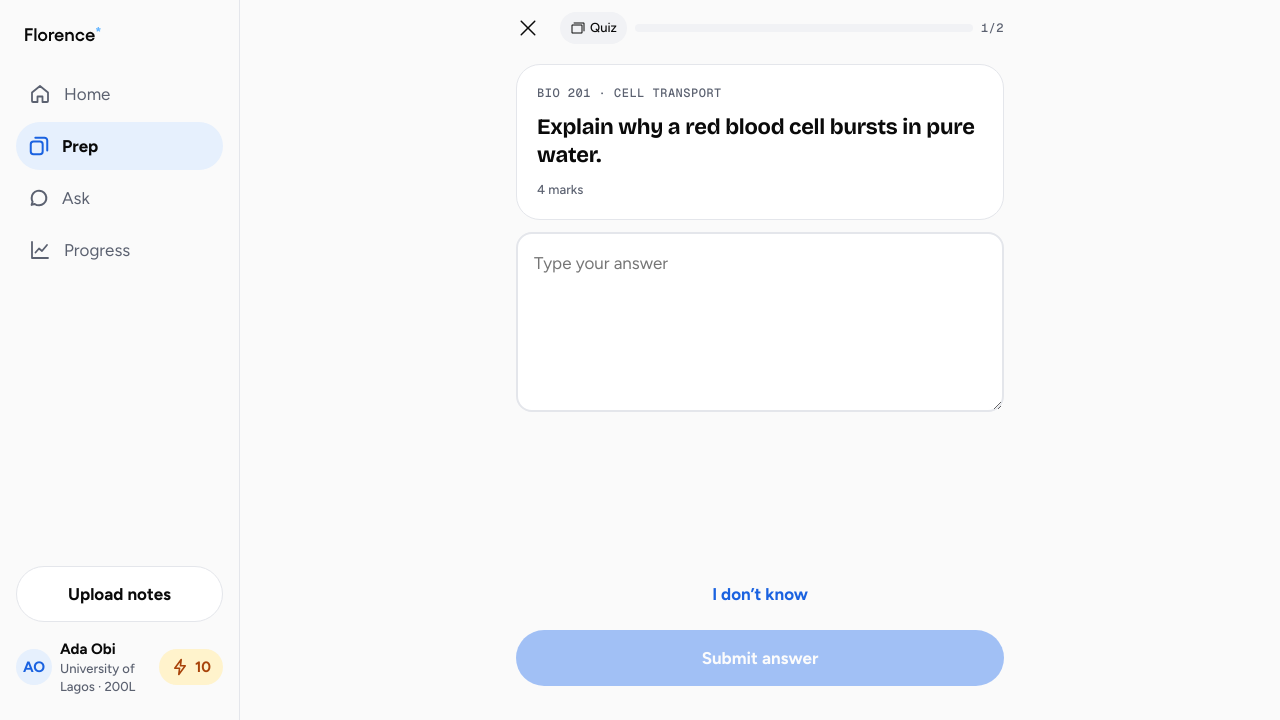
Test: Prep › takes a typed answer for written questions and sends I don’t know
expect the text "BIO 201 · Cell transport" is shown: met, box [537, 85, 722, 101]
expect the button "Submit answer" is disabled: met, box [516, 630, 1004, 686]
Type "Osmosis makes it swell" into the text box labelled "your answer" at (760, 322), box [516, 232, 1004, 412]
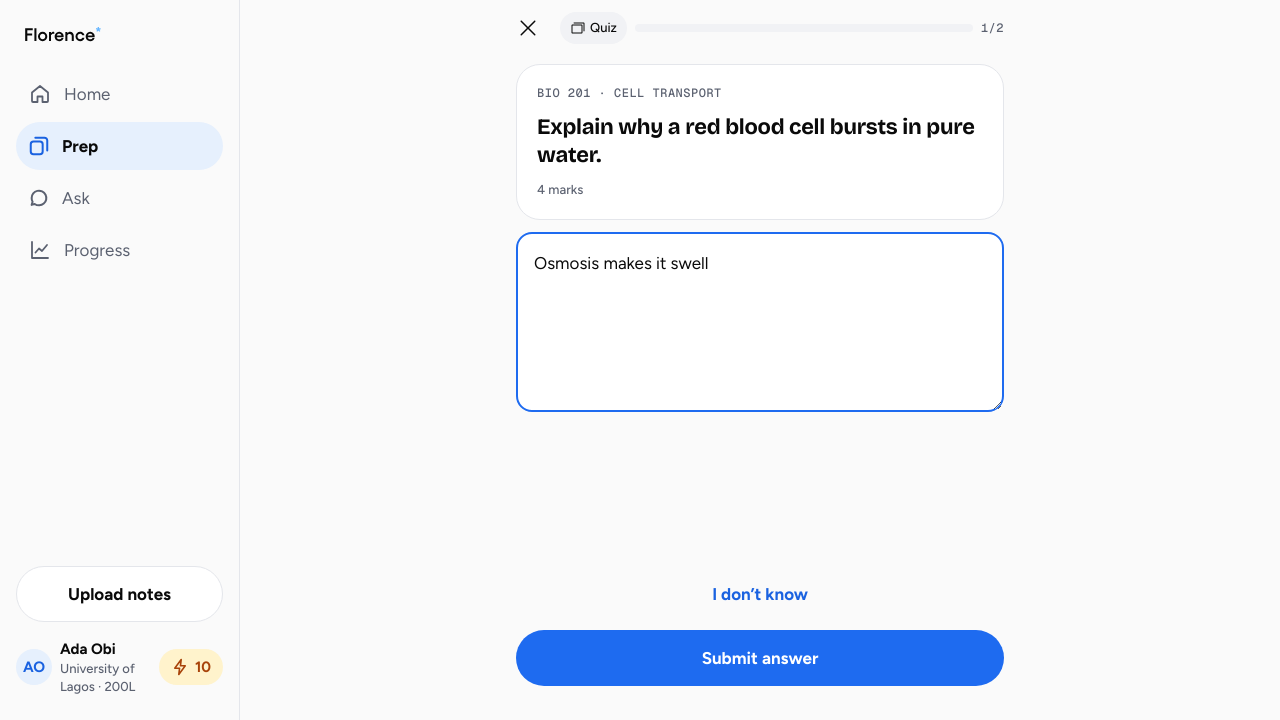
Click the button "Submit answer" at (760, 658), box [516, 630, 1004, 686]
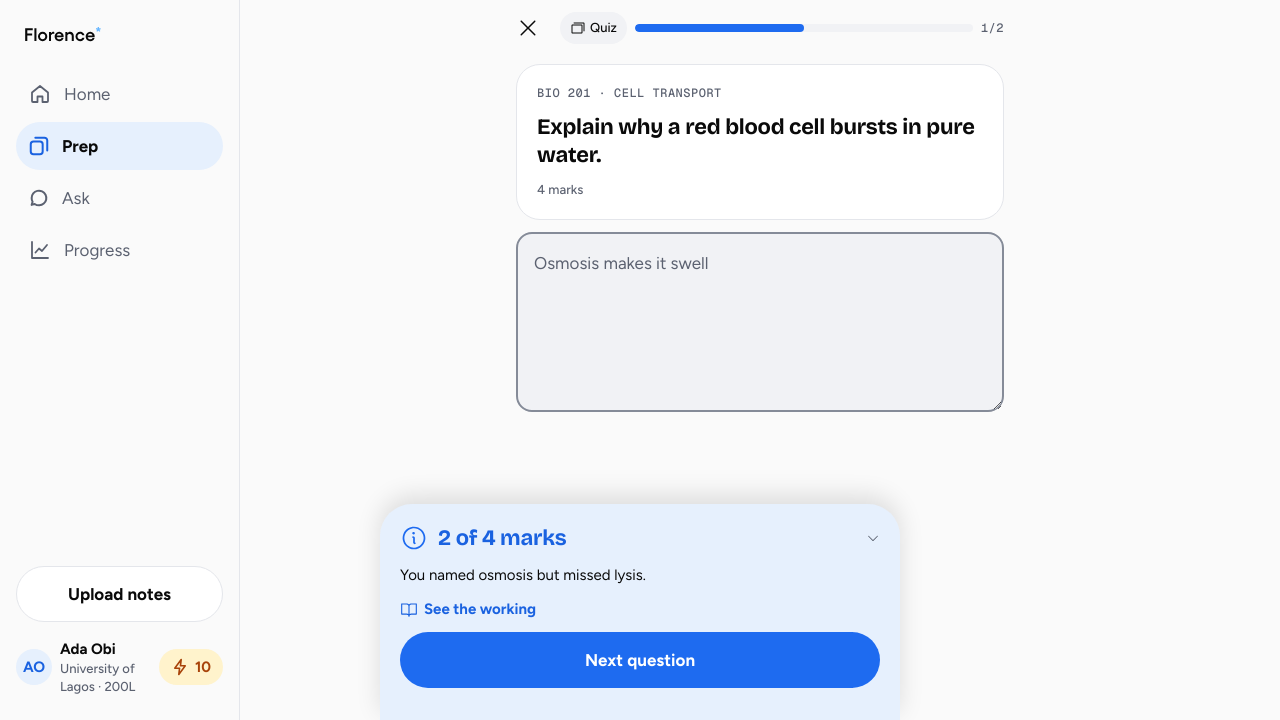
expect the text "2 of 4 marks" is shown: met, box [438, 525, 566, 551]
Click the button "Next question" at (640, 660), box [400, 632, 880, 688]
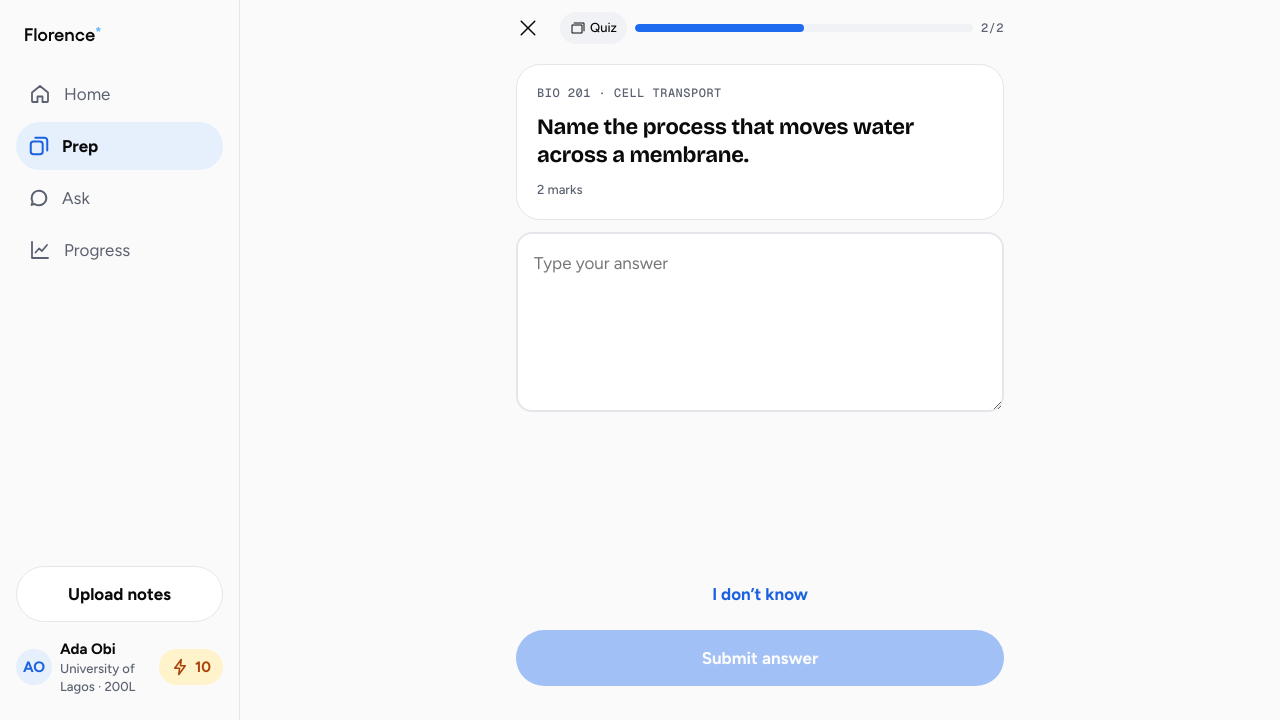
Click the button "I don’t know" at (760, 594), box [516, 566, 1004, 622]
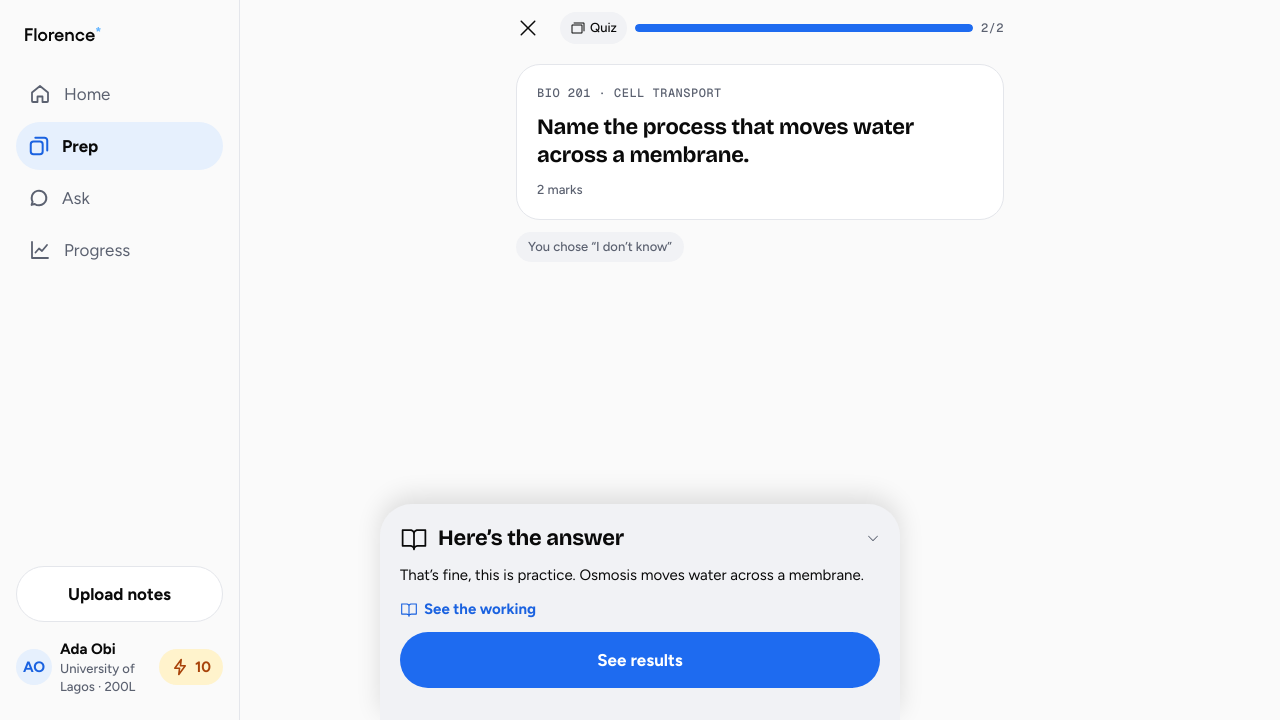
expect the text "Here’s the answer" is shown: met, box [438, 525, 624, 551]
